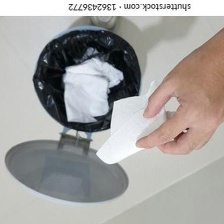tissue: (92, 75, 182, 167), (57, 52, 128, 128)
